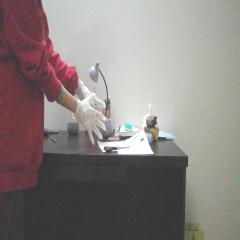gloved: (77, 104, 107, 146), (78, 81, 107, 109)
